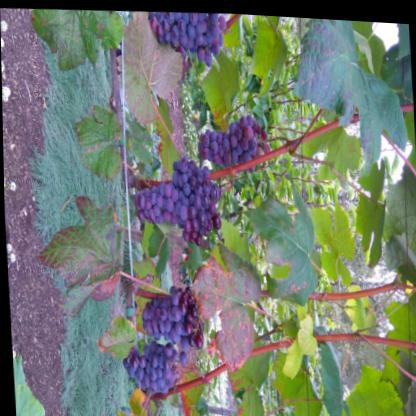grape: (125, 134, 234, 267), (131, 253, 215, 378), (186, 102, 274, 175), (118, 332, 192, 416), (140, 7, 225, 65)
